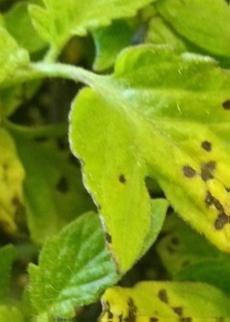Tomato leaf: (9, 0, 195, 44)
Tomato leaf bacterial spot: (50, 43, 230, 271), (80, 275, 230, 322)
